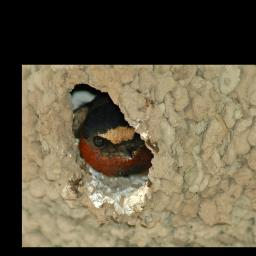Swallow: (77, 94, 154, 178)
